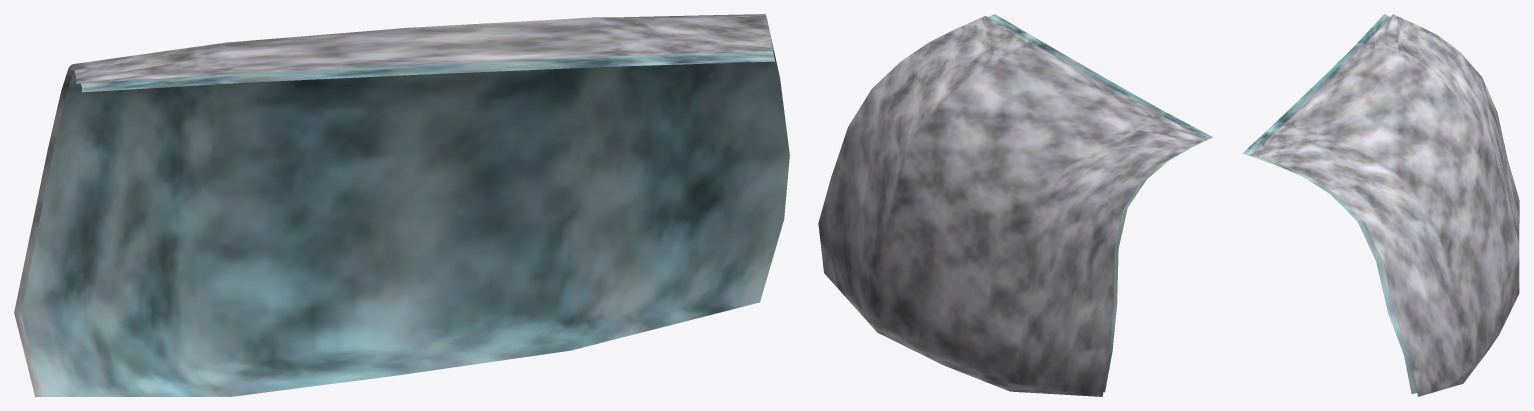
The model's file is CB_NEWPLAYSURFACE_CB_WATERFALLS17.fbx.
3 renders of one model, left to right at view 1: azimuth 30°, elevation 25°; view 2: azimuth 150°, elevation 25°; view 3: azimuth 270°, elevation 25°, orthographic. The views are drawn at different scales.
Parts seen in each view (by area): view 1: CB_NEWPLAYSURFACE_CB_WATERFALLS17; view 2: CB_NEWPLAYSURFACE_CB_WATERFALLS17; view 3: CB_NEWPLAYSURFACE_CB_WATERFALLS17.
Part boxes in pixels (box(x1,y1,x2,y2)): CB_NEWPLAYSURFACE_CB_WATERFALLS17: box(14, 14, 789, 396); CB_NEWPLAYSURFACE_CB_WATERFALLS17: box(818, 14, 1213, 396); CB_NEWPLAYSURFACE_CB_WATERFALLS17: box(1242, 14, 1519, 396).
Bounding box in the file's own units: 96738 × 58609 × 62798.
2 materials, 2 textured.
